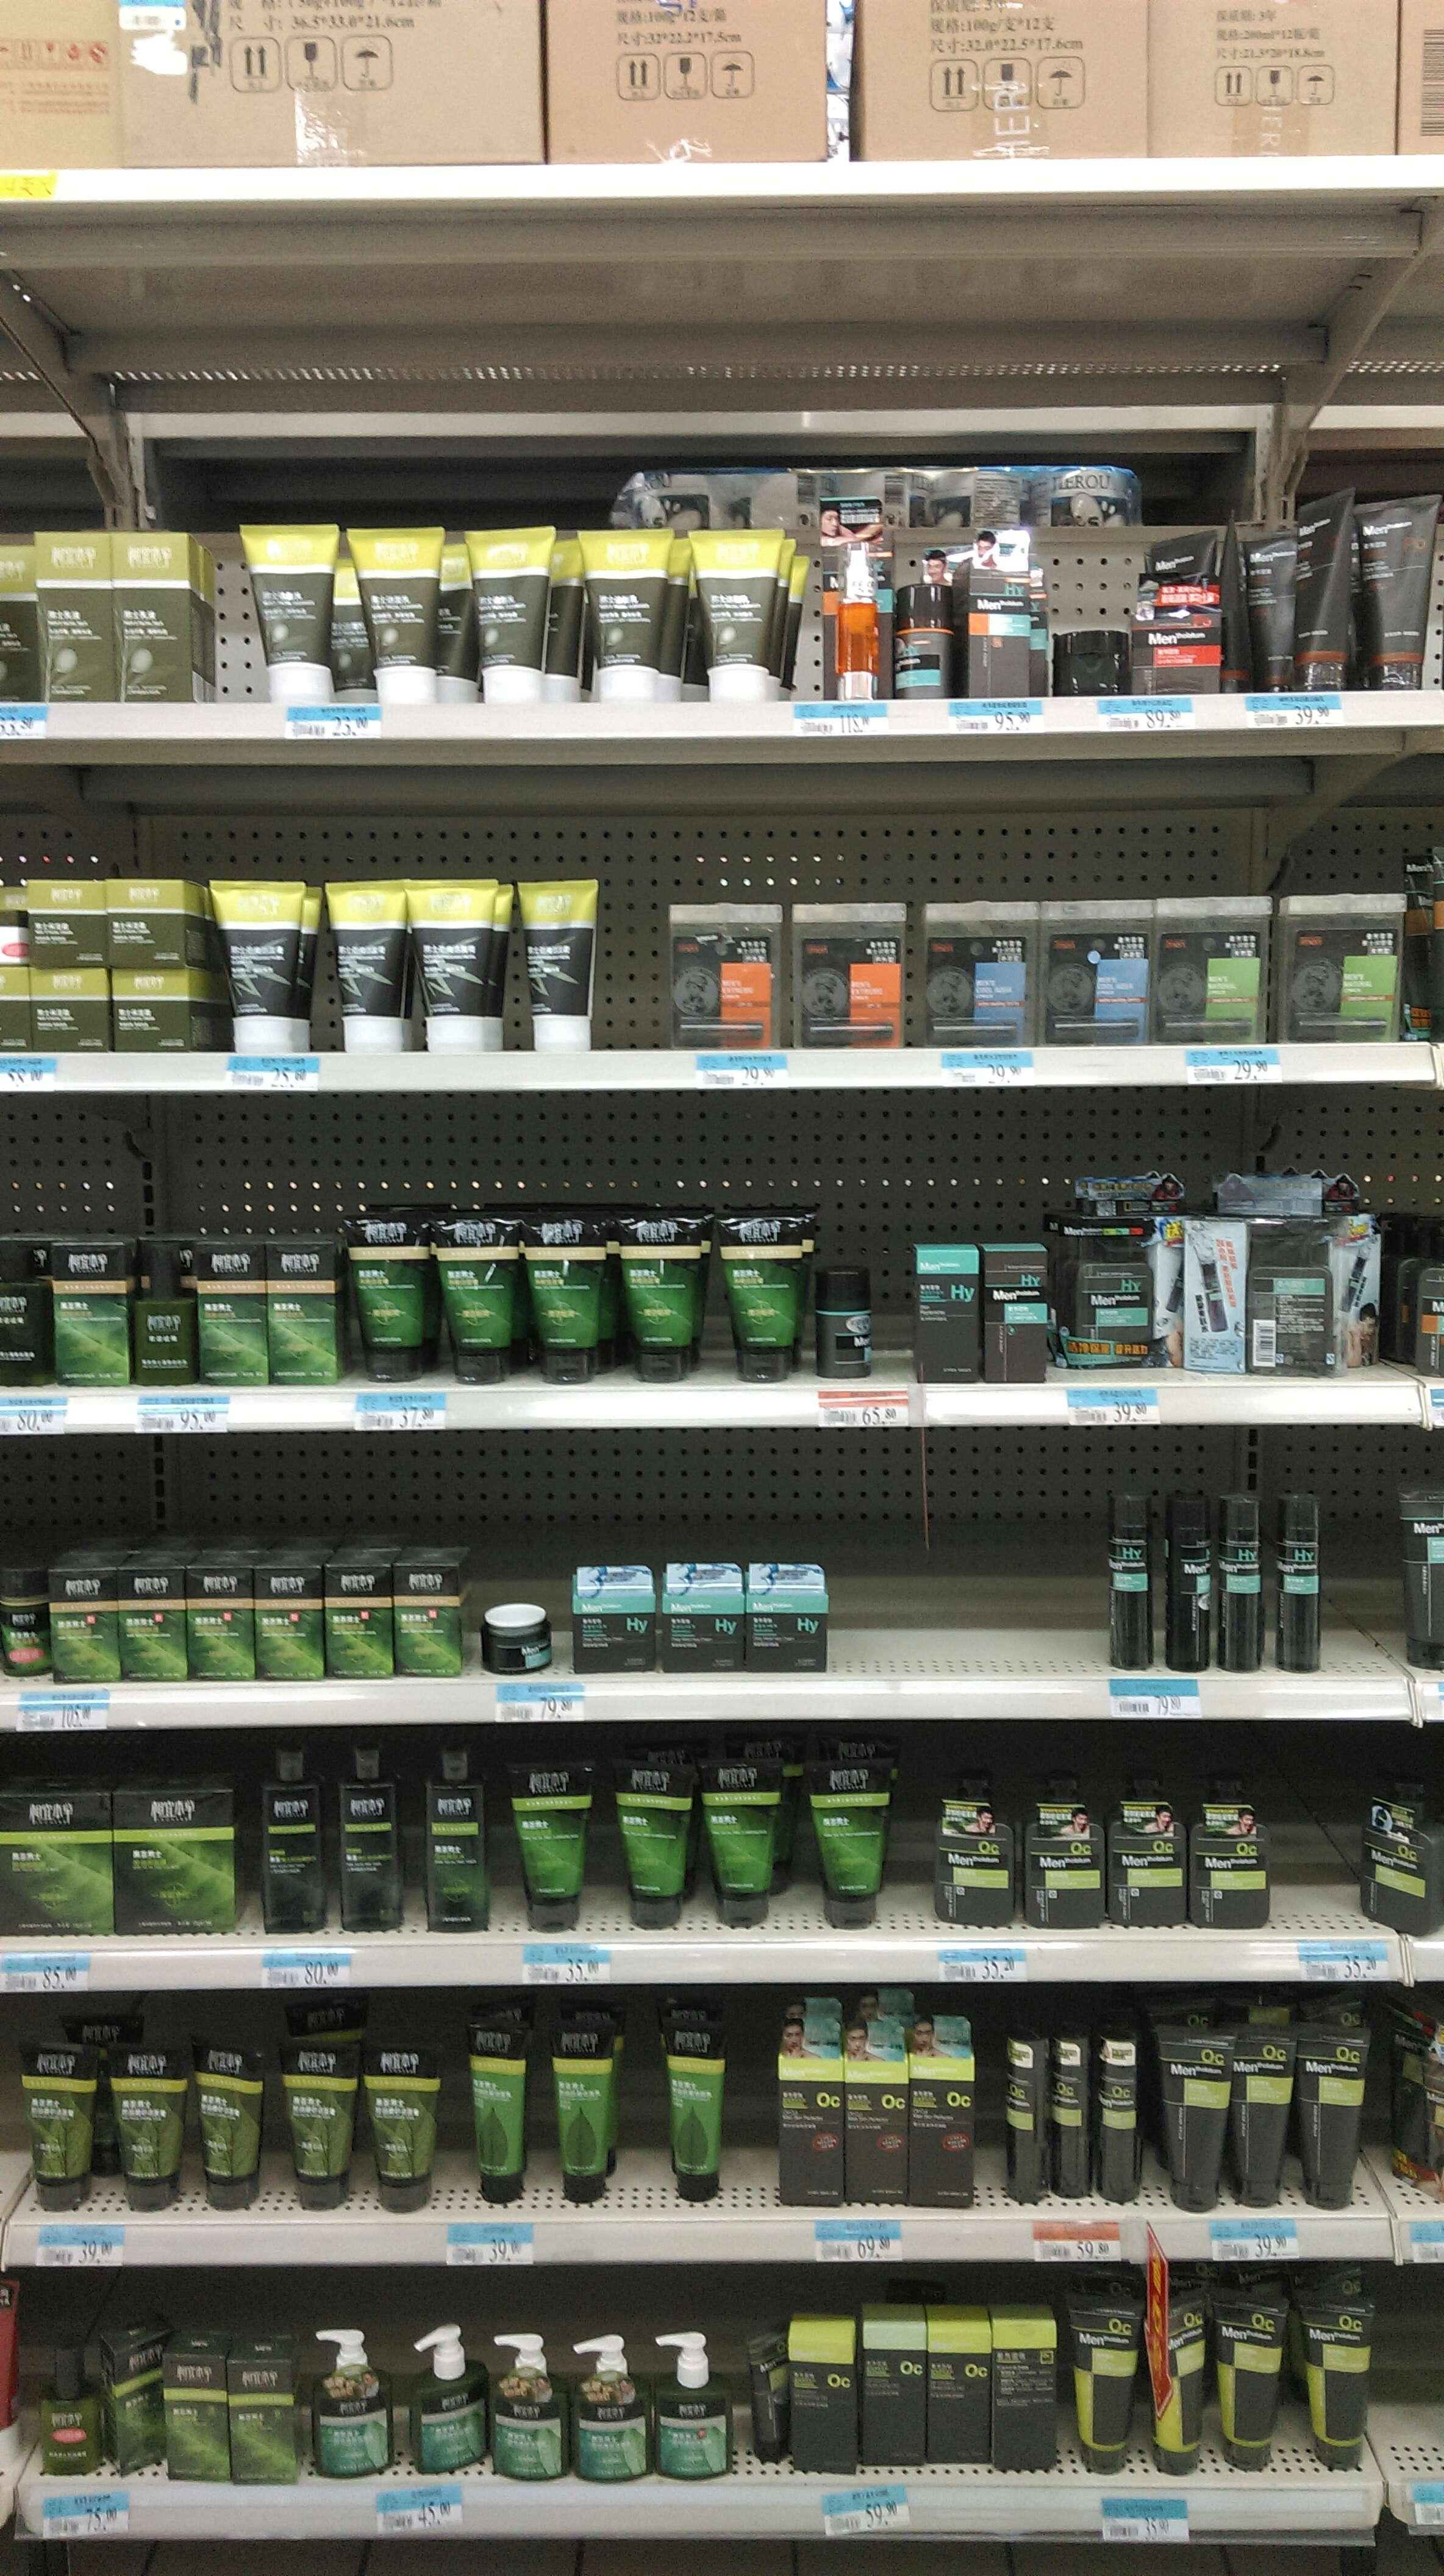empty: (1271, 1773, 1354, 1934), (1317, 1541, 1407, 1674), (598, 899, 678, 1044), (832, 1555, 929, 1672), (1023, 1559, 1118, 1677), (926, 1560, 1021, 1677), (724, 2033, 787, 2204), (1382, 2288, 1444, 2461)
